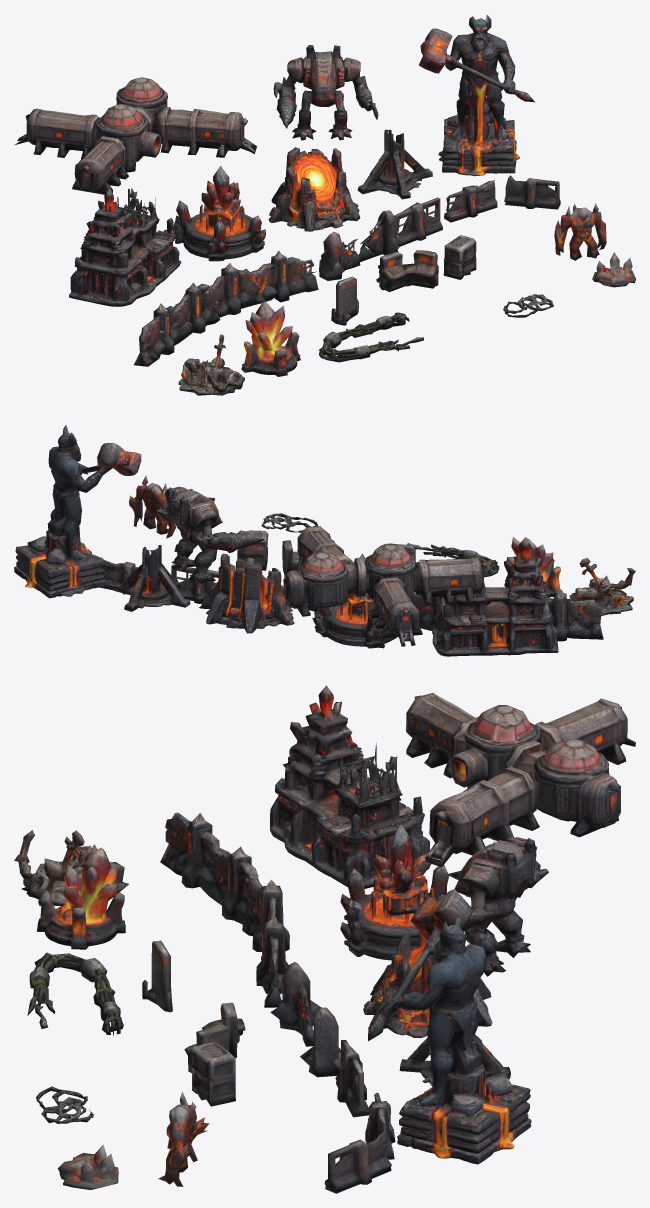
File: Mapa8.glb
The picture shows the model from 3 angles, top to bottom: view 1: azimuth 30°, elevation 25°; view 2: azimuth 150°, elevation 25°; view 3: azimuth 270°, elevation 25°; orthographic projection. The views are drawn at different scales.
Visible parts, largest first — view 1: tripo_node_14db76ec-4c4c-4e84-a83f-efa87bbca4c8; view 2: tripo_node_14db76ec-4c4c-4e84-a83f-efa87bbca4c8; view 3: tripo_node_14db76ec-4c4c-4e84-a83f-efa87bbca4c8.
Part boxes in pixels (x1,y1,x2,y2): tripo_node_14db76ec-4c4c-4e84-a83f-efa87bbca4c8: (15,15,635,395); tripo_node_14db76ec-4c4c-4e84-a83f-efa87bbca4c8: (14,425,635,656); tripo_node_14db76ec-4c4c-4e84-a83f-efa87bbca4c8: (14,685,635,1193).
Bounding box in the file's own units: 0.9793 × 0.3329 × 0.7351.
Materials: 1 (1 with a texture image).
